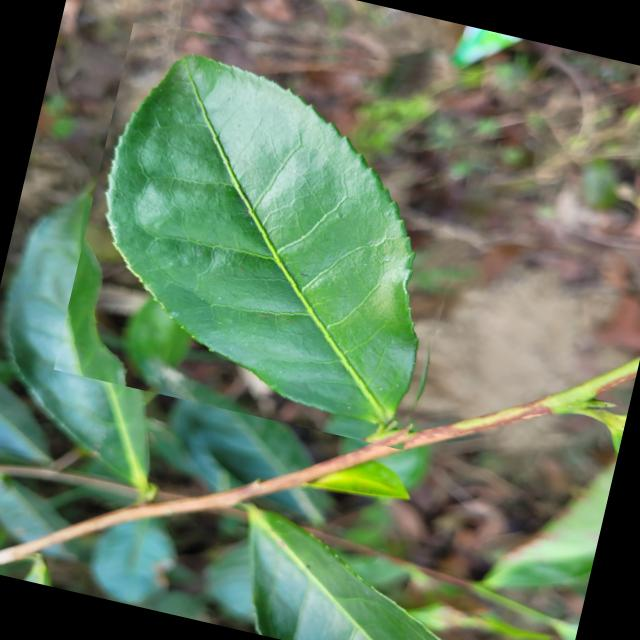Category D(7+ days, Not for Tea): (53, 0, 506, 454)
